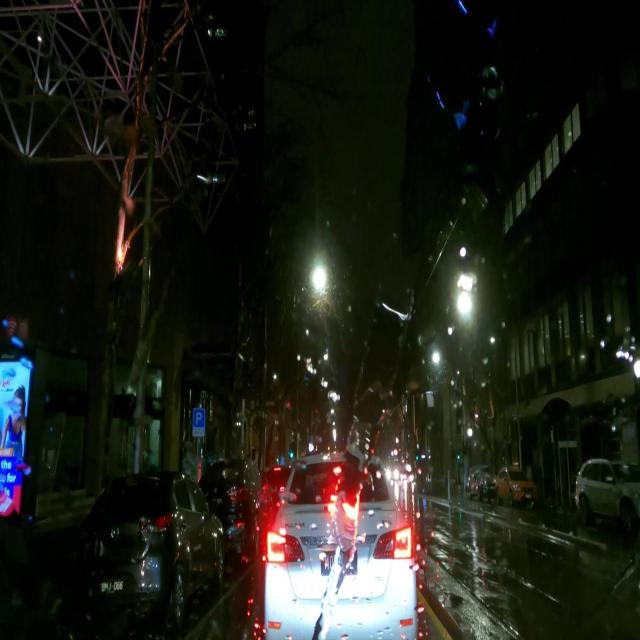Car: (253, 444, 417, 639), (78, 473, 223, 615), (573, 451, 637, 528)
